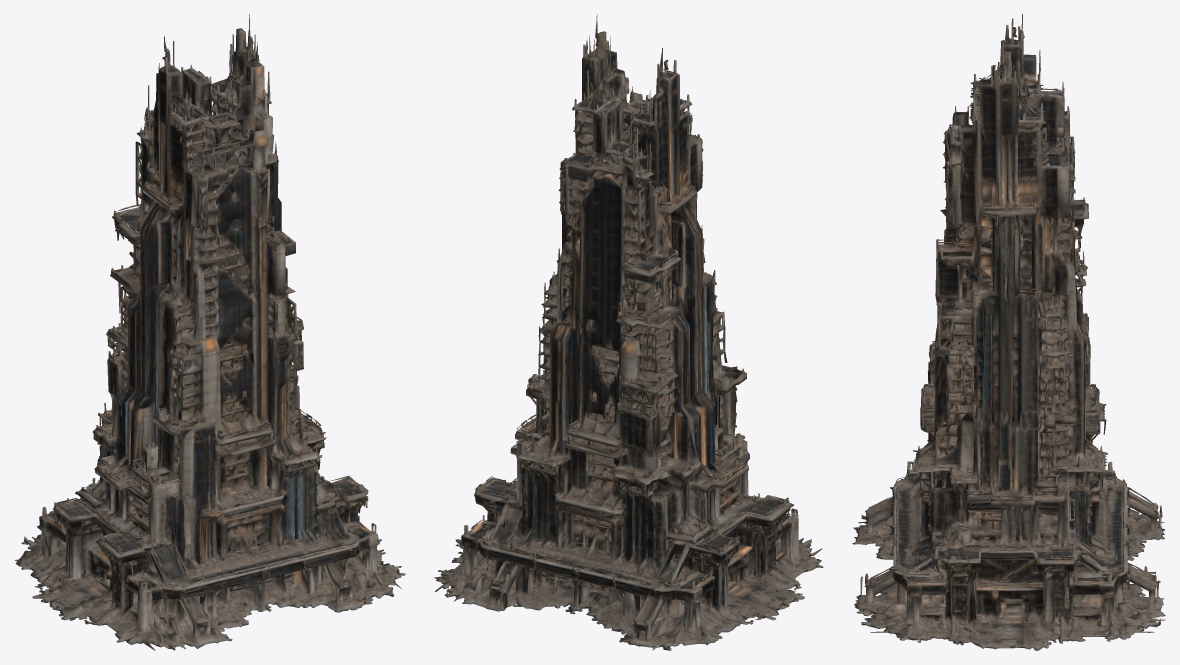
File: spire.glb
The picture shows the model from 3 angles, left to right: view 1: azimuth 30°, elevation 25°; view 2: azimuth 150°, elevation 25°; view 3: azimuth 270°, elevation 25°; orthographic projection.
Visible parts, largest first — view 1: Mesh_0; view 2: Mesh_0; view 3: Mesh_0.
Part boxes in pixels (x1,y1,x2,y2): Mesh_0: [14, 14, 405, 650]; Mesh_0: [434, 14, 823, 650]; Mesh_0: [852, 14, 1165, 650].
Size of the model in its own units: 1.18 by 1.9 by 0.9845.
1 material, 1 textured.
